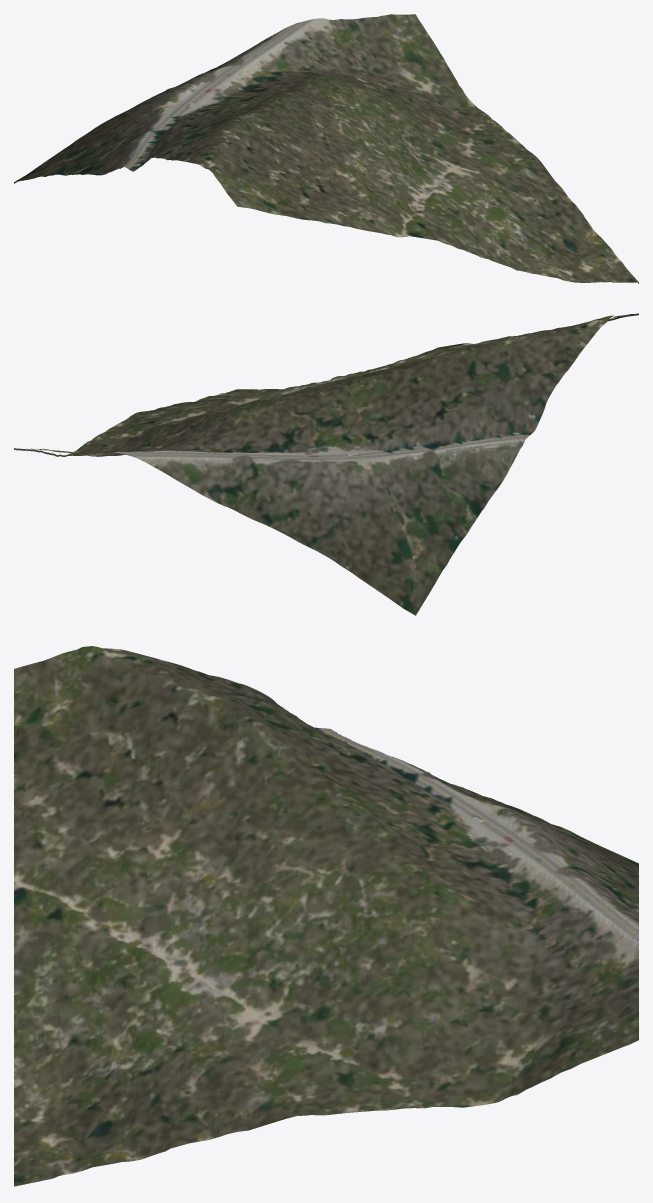
The picture shows the model from 3 angles, top to bottom: view 1: azimuth 30°, elevation 25°; view 2: azimuth 150°, elevation 25°; view 3: azimuth 270°, elevation 25°; orthographic projection. The views are drawn at different scales.
Bounding box in the file's own units: 250 × 114 × 241.
1 material, 1 textured.
